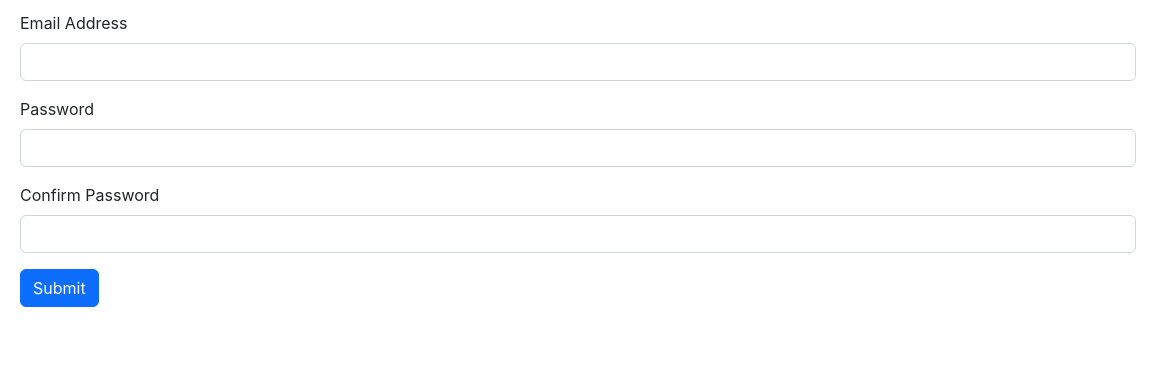
Test: Test App Component › Error Handling › Should Show Confirm Password does not Match Password
The width and height of the screenshot is (1157, 368).
Step 1. Type "eltana@eltana.dev" into the field labelled "Email Address" → (578, 62), box [20,43,1136,81]
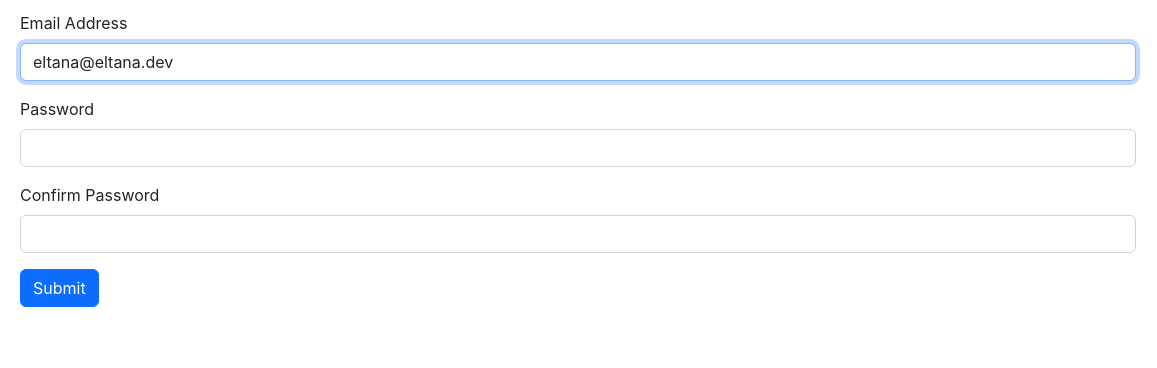
Step 2. Type "s3cret" into the password field labelled "Password" → (578, 148), box [20,129,1136,167]
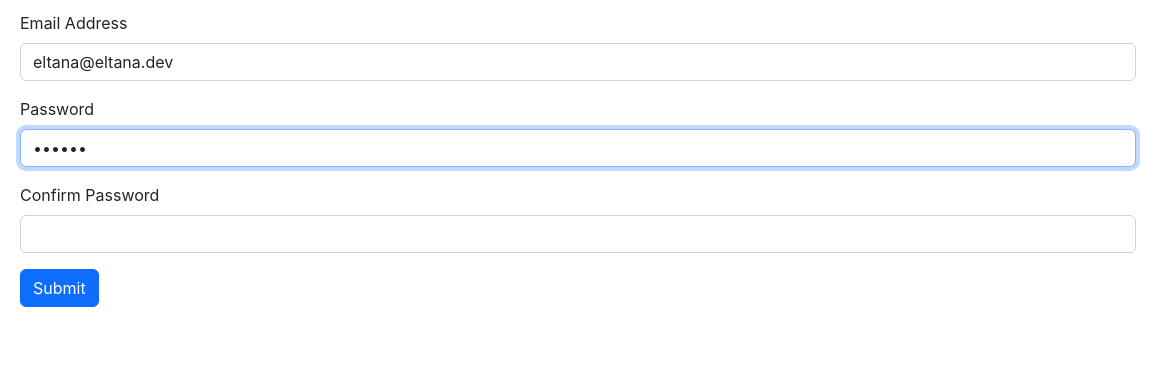
Step 3. Type "12345" into the password field labelled "Confirm Password" → (578, 234), box [20,215,1136,253]
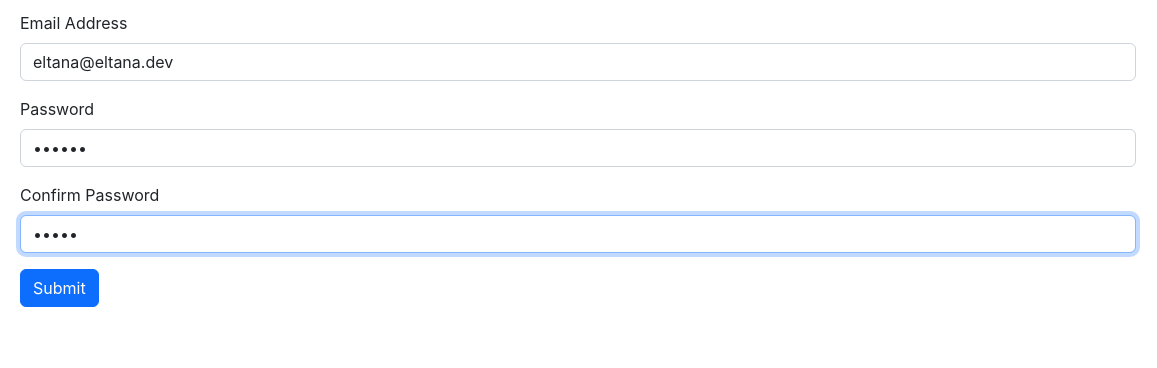
expect the text "The Passwords do not match!" is not shown: met
Step 4. Click the button "Submit" → (59, 288), box [20,269,99,307]
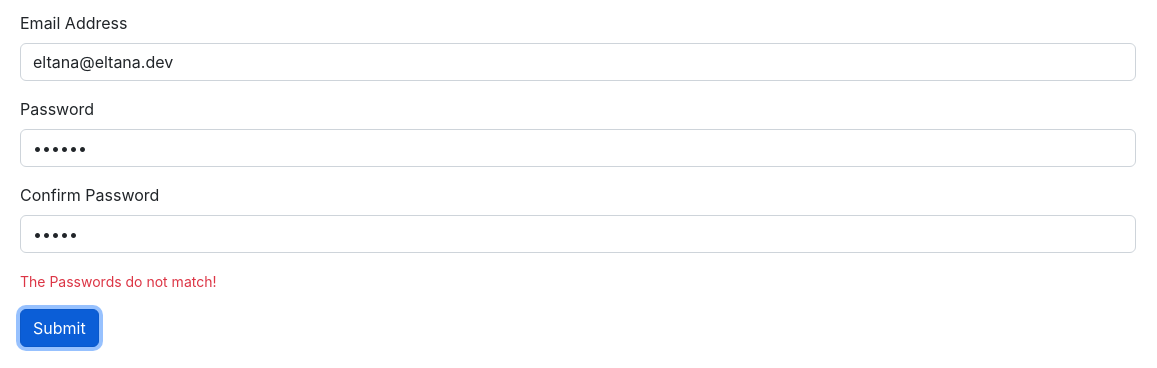
expect the text "The Passwords do not match!" is shown: met, box [20,273,216,290]
